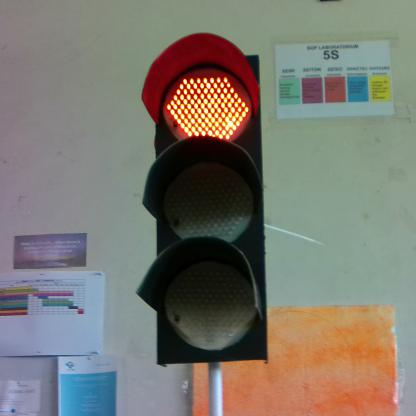red: (141, 33, 268, 361)
